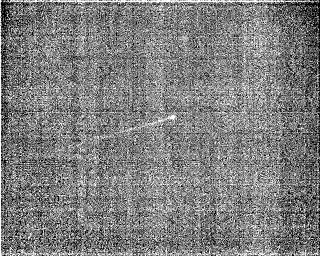AIRPLANE: (89, 113, 178, 144)
